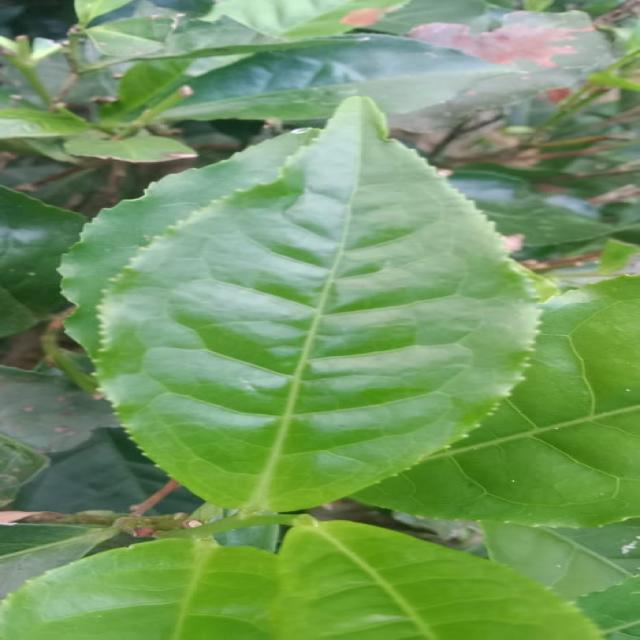Category B(2-4 days): (73, 85, 549, 522)
